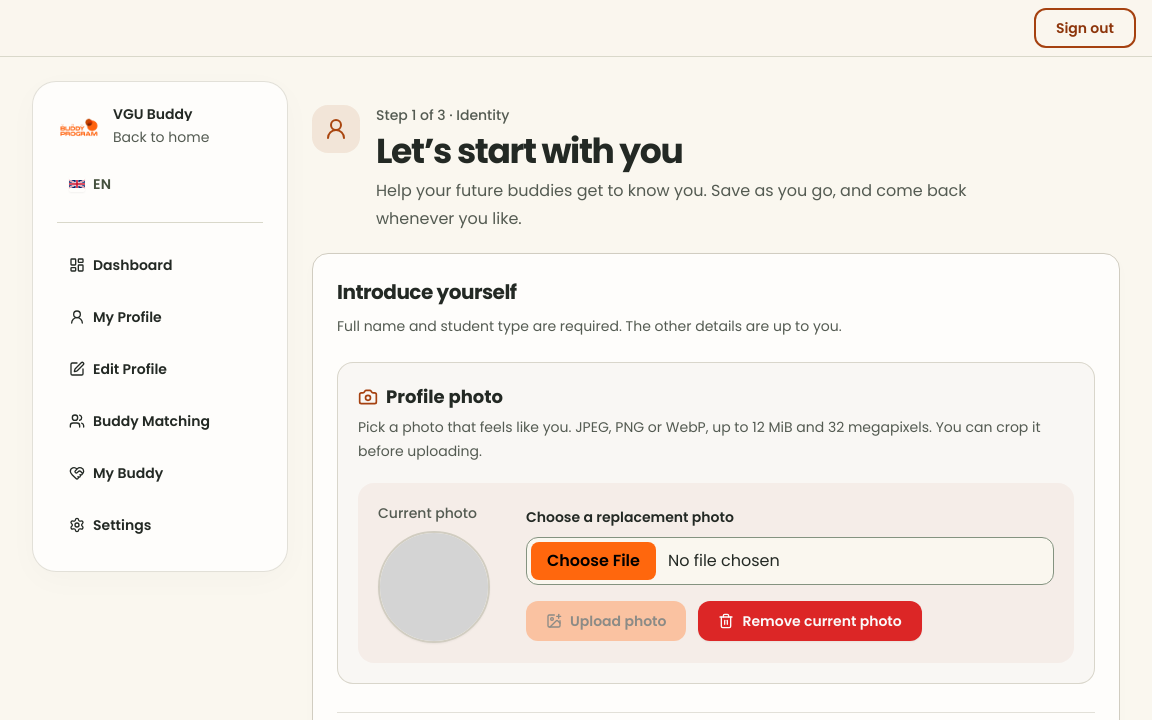
FE-039 reusable profile avatar control › preserves the current avatar when removal fails and removes it after retry
This screenshot has width=1152, height=720.
Click the button "Remove current photo" at (810, 621), box [698,601,922,641]
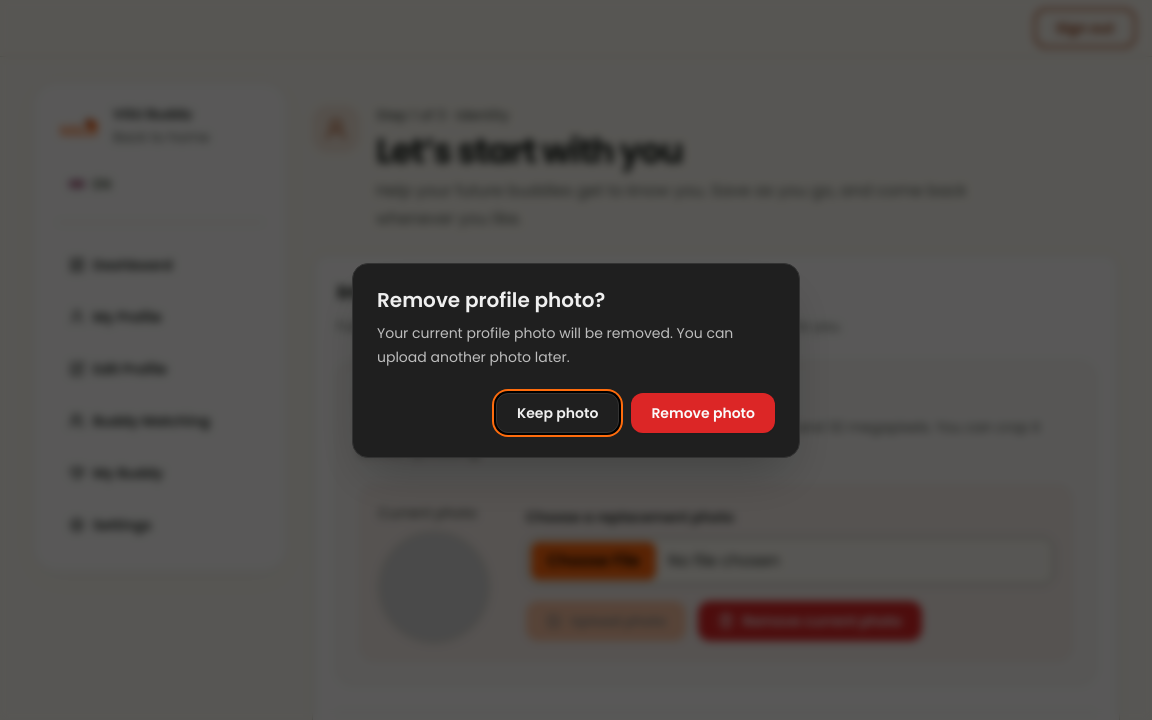
Expected: the dialog "Remove profile photo?" is shown, [352,262,800,458]
Click the button "Remove photo" at (703, 412), box [631,392,775,432]
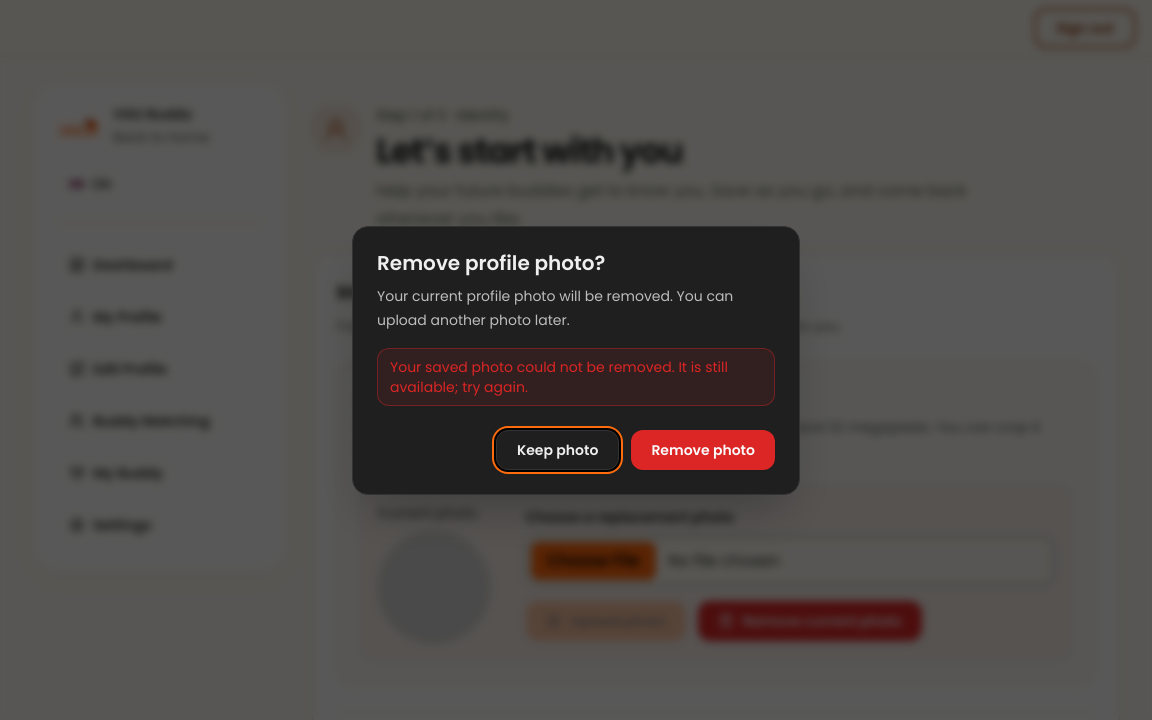
Expected: the message shows "Your saved photo could not be removed.", [390,356,728,396]
Click the button "Remove photo" at (703, 450), box [631,430,775,470]
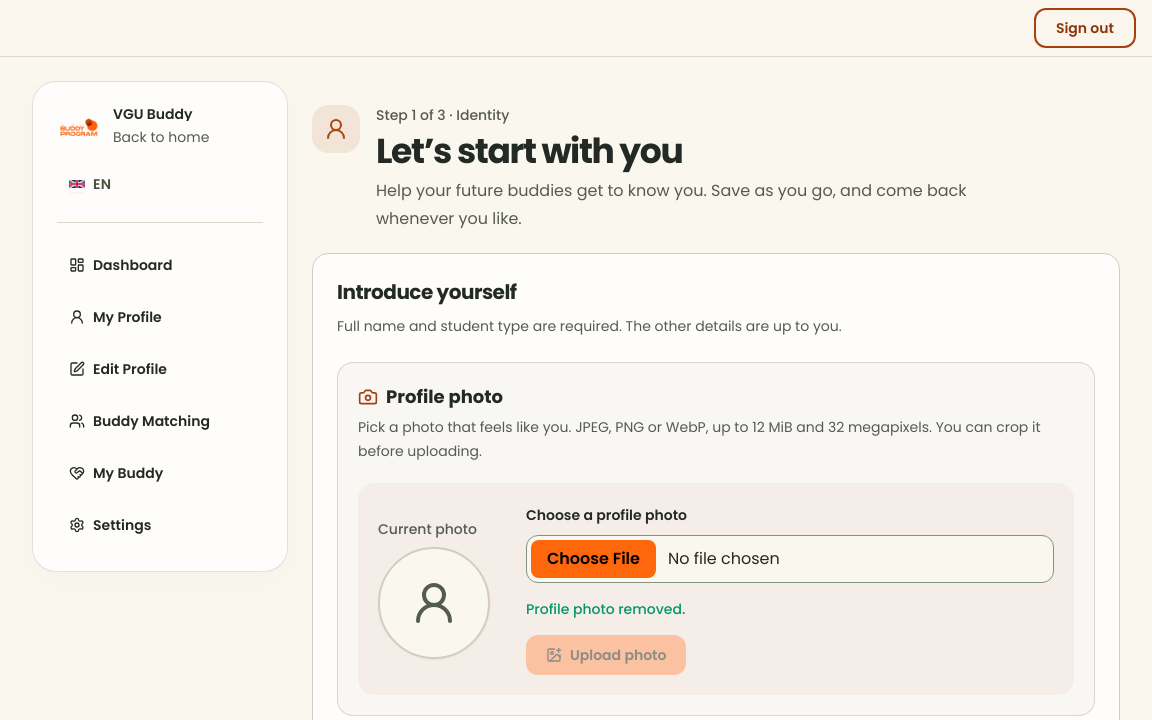
Expected: the text "Profile photo removed." is shown, [526,599,685,619]
Expected: the picture named "No profile photo saved" is shown, [410,579,458,627]
Expected: the button "Remove current photo" is gone
